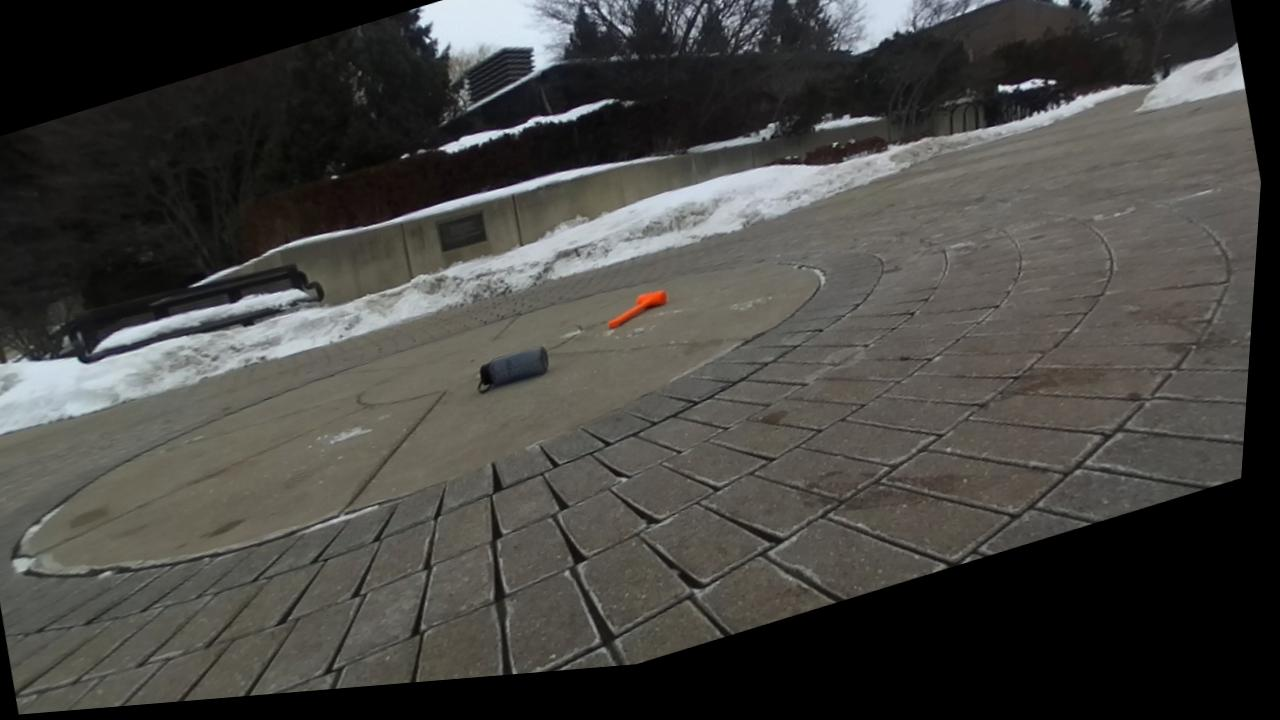bottle: (479, 346, 548, 392)
mallet: (609, 290, 665, 328)
